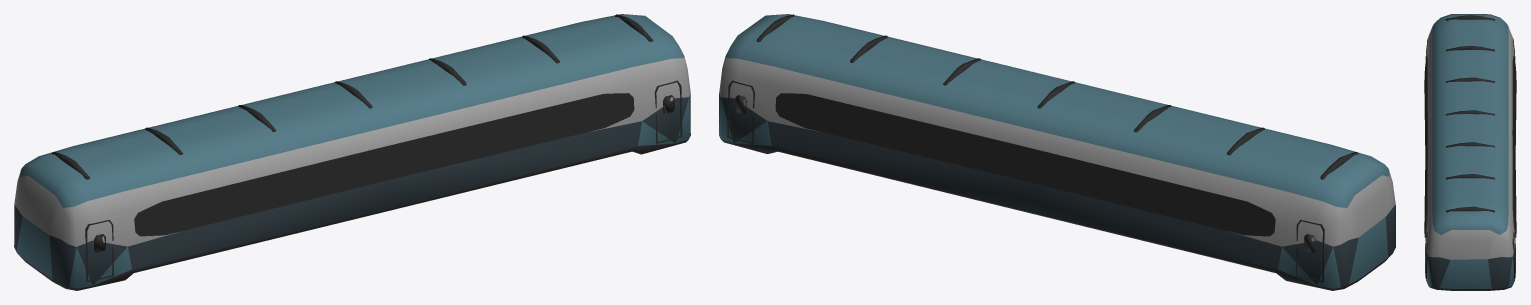
File: train-wagon.glb
3 renders of one model, left to right at view 1: azimuth 30°, elevation 25°; view 2: azimuth 150°, elevation 25°; view 3: azimuth 270°, elevation 25°, orthographic. The views are drawn at different scales.
Parts seen in each view (by area): view 1: HighspeedTrain_Wagon; view 2: HighspeedTrain_Wagon; view 3: HighspeedTrain_Wagon.
Boxes of the visible parts, x1,y1,x2,y2 form: HighspeedTrain_Wagon: [14, 14, 690, 290]; HighspeedTrain_Wagon: [719, 14, 1395, 290]; HighspeedTrain_Wagon: [1424, 14, 1516, 290].
Size of the model in its own units: 11.18 by 1.9 by 2.03.
